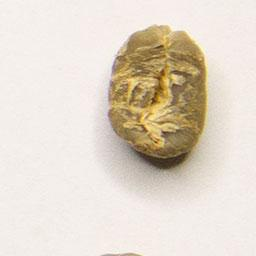premium: (103, 21, 211, 164)
